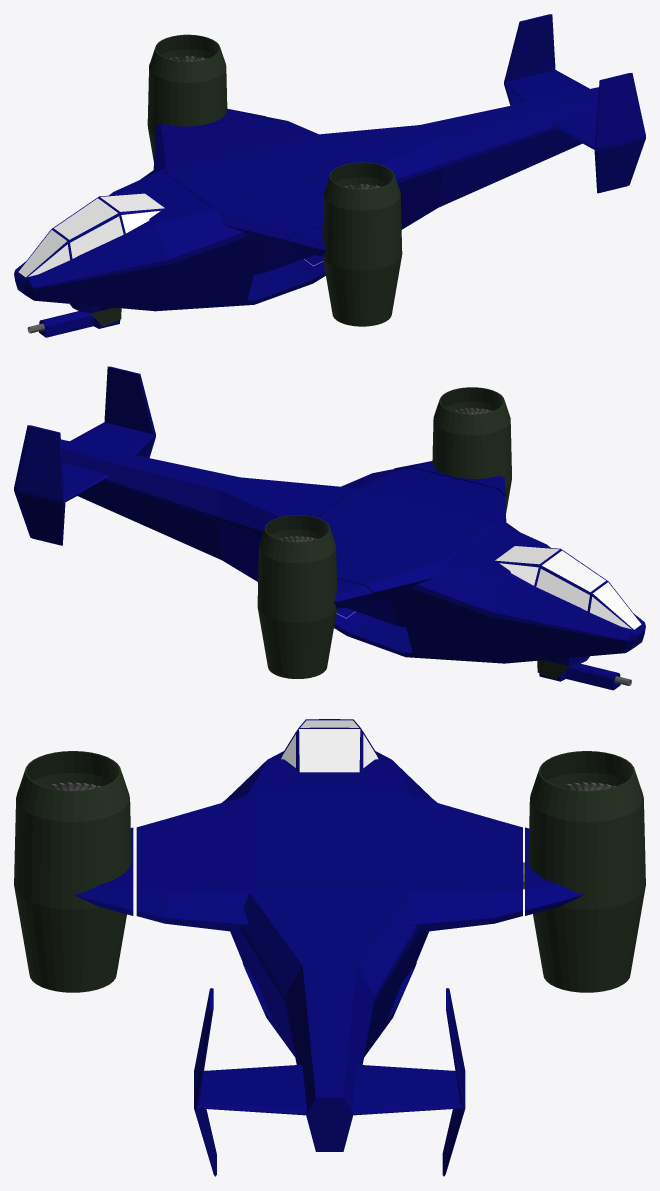
Rendered from tank_blue_1.glb.
The picture shows the model from 3 angles, top to bottom: view 1: azimuth 30°, elevation 25°; view 2: azimuth 150°, elevation 25°; view 3: azimuth 270°, elevation 25°; orthographic projection. The views are drawn at different scales.
Visible parts, largest first — view 1: body_primitive0, Куб.004_primitive1, Циліндр.001_primitive0, body_primitive1, Куб.002, Куб.004_primitive0, Циліндр.001_primitive1; view 2: body_primitive0, Циліндр.001_primitive0, Куб.004_primitive1, body_primitive1, Куб.002, Циліндр.001_primitive1, Куб.004_primitive0; view 3: body_primitive0, Циліндр.001_primitive0, Куб.004_primitive1, body_primitive1, Циліндр.001_primitive1, Куб.004_primitive0.
Boxes of the visible parts, x1,y1,x2,y2 form: body_primitive0: [14, 14, 645, 311]; Куб.004_primitive1: [322, 162, 402, 326]; Циліндр.001_primitive0: [147, 34, 227, 161]; body_primitive1: [18, 193, 164, 277]; Куб.002: [39, 311, 120, 337]; Куб.004_primitive0: [287, 227, 326, 256]; Циліндр.001_primitive1: [154, 108, 265, 143]; body_primitive0: [14, 366, 645, 663]; Циліндр.001_primitive0: [257, 515, 337, 678]; Куб.004_primitive1: [432, 387, 511, 512]; body_primitive1: [495, 546, 641, 629]; Куб.002: [539, 663, 620, 690]; Циліндр.001_primitive1: [334, 578, 372, 608]; Куб.004_primitive0: [394, 461, 505, 496]; body_primitive0: [136, 719, 522, 1176]; Циліндр.001_primitive0: [528, 751, 645, 992]; Куб.004_primitive1: [14, 751, 131, 992]; body_primitive1: [281, 720, 378, 772]; Циліндр.001_primitive1: [525, 827, 583, 915]; Куб.004_primitive0: [74, 827, 133, 915].
Size of the model in its own units: 1 by 0.2715 by 0.6294.
